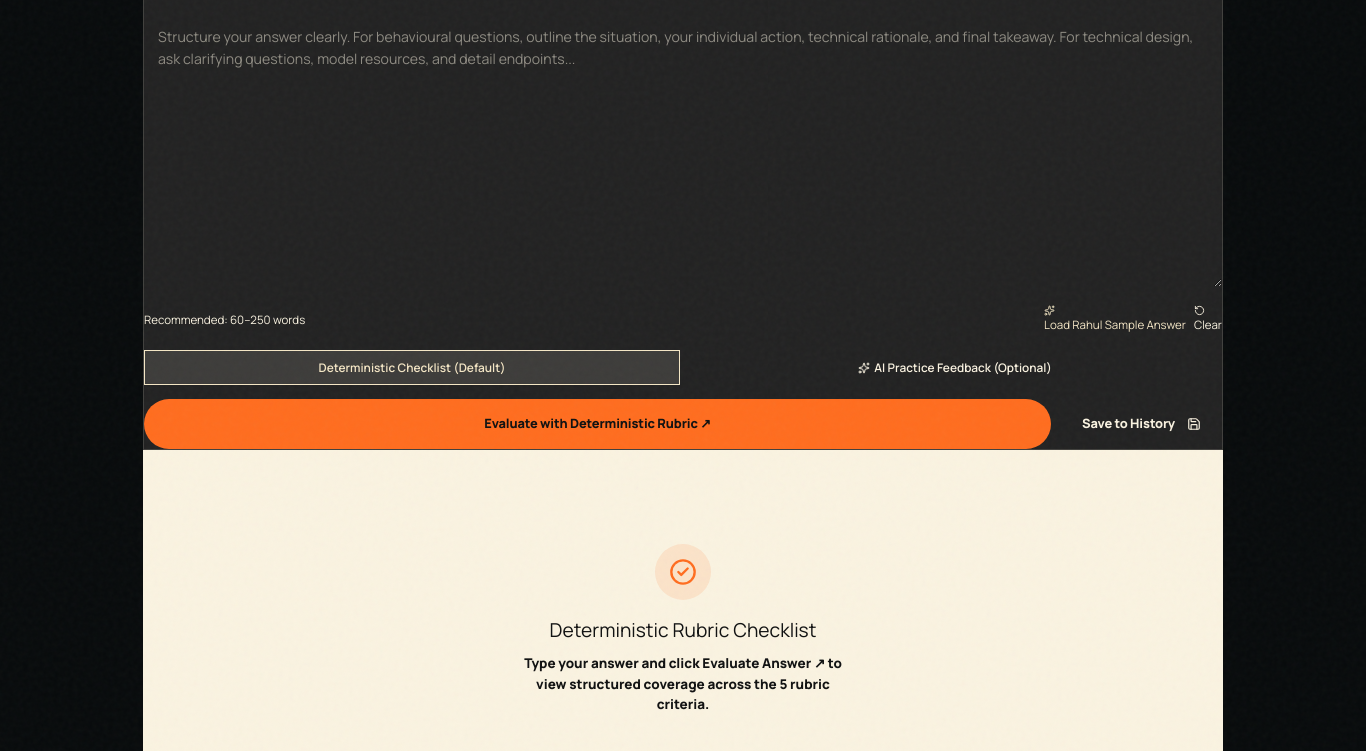
Test case: Prompt 13 & Gate 13 — Safe AI Server Boundary & Fallback Engine › UI Draft Preservation & AI Review Labels (Gate 13 UI) › preserves answer text in Practice room when AI evaluation times out
(page scrolled)
Select AI practice mode
Click the button "AI Practice Feedback (Optional)" at (955, 368), box left=688, top=351, right=1222, bottom=384
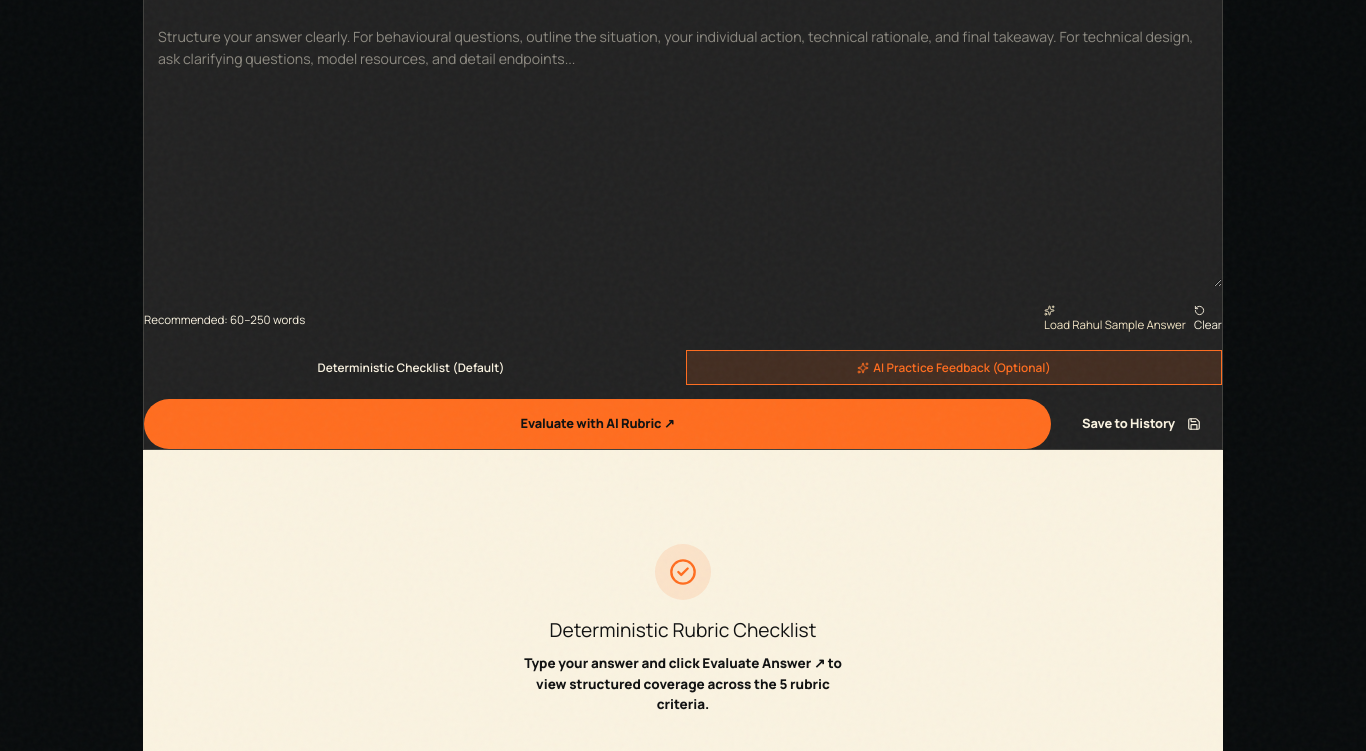
Replace the text in the text box with placeholder "Structure your answer clearly" with "In my Python task organizer project, I encountered corrupted JSON files whenever the program was abruptly interrupted. I wrote a pytest suite to reproduce and isolate the crash, then implemented atomi" at (683, 150), box left=144, top=12, right=1222, bottom=288
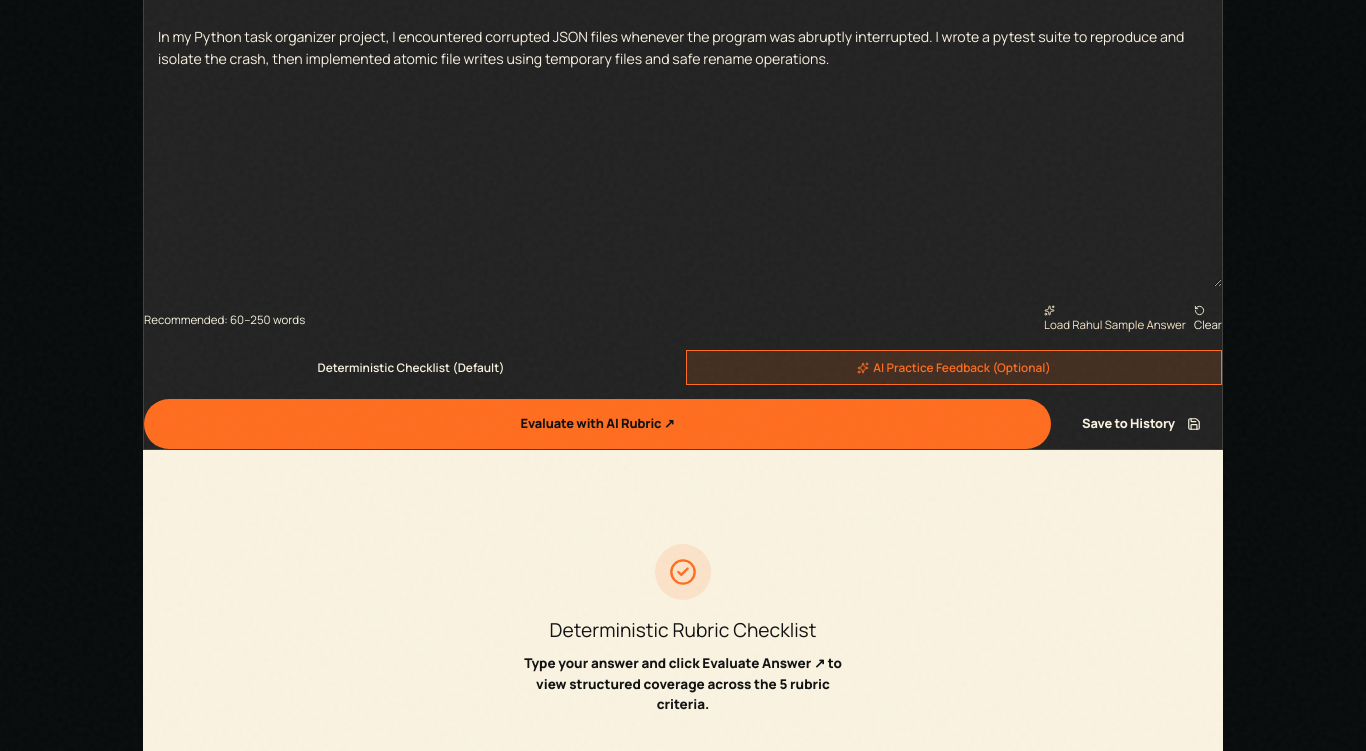
Click evaluate
Click the button "Evaluate with AI Rubric ↗" at (598, 424), box left=144, top=400, right=1051, bottom=449
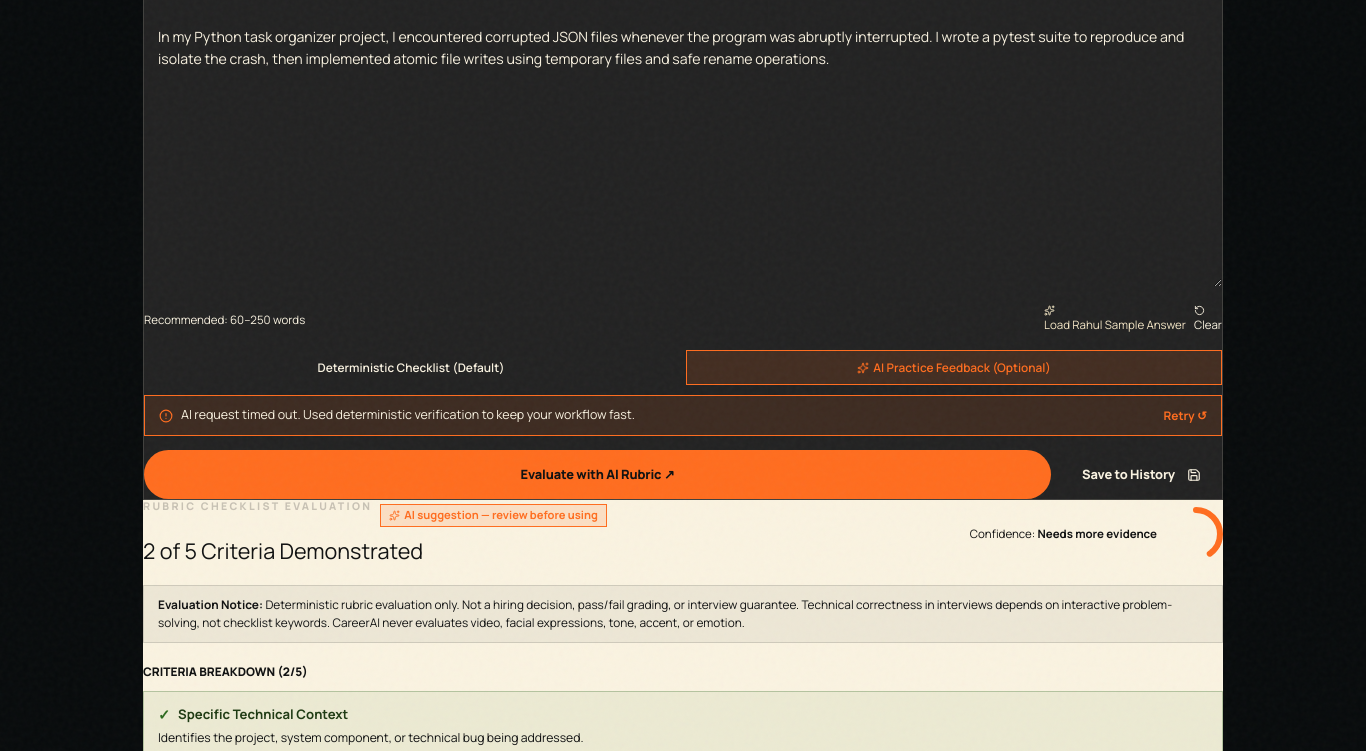
Expected: the message shows "timed out", left=181, top=406, right=635, bottom=424
Expected: the button "Retry ↺" is shown, left=1164, top=407, right=1207, bottom=425
